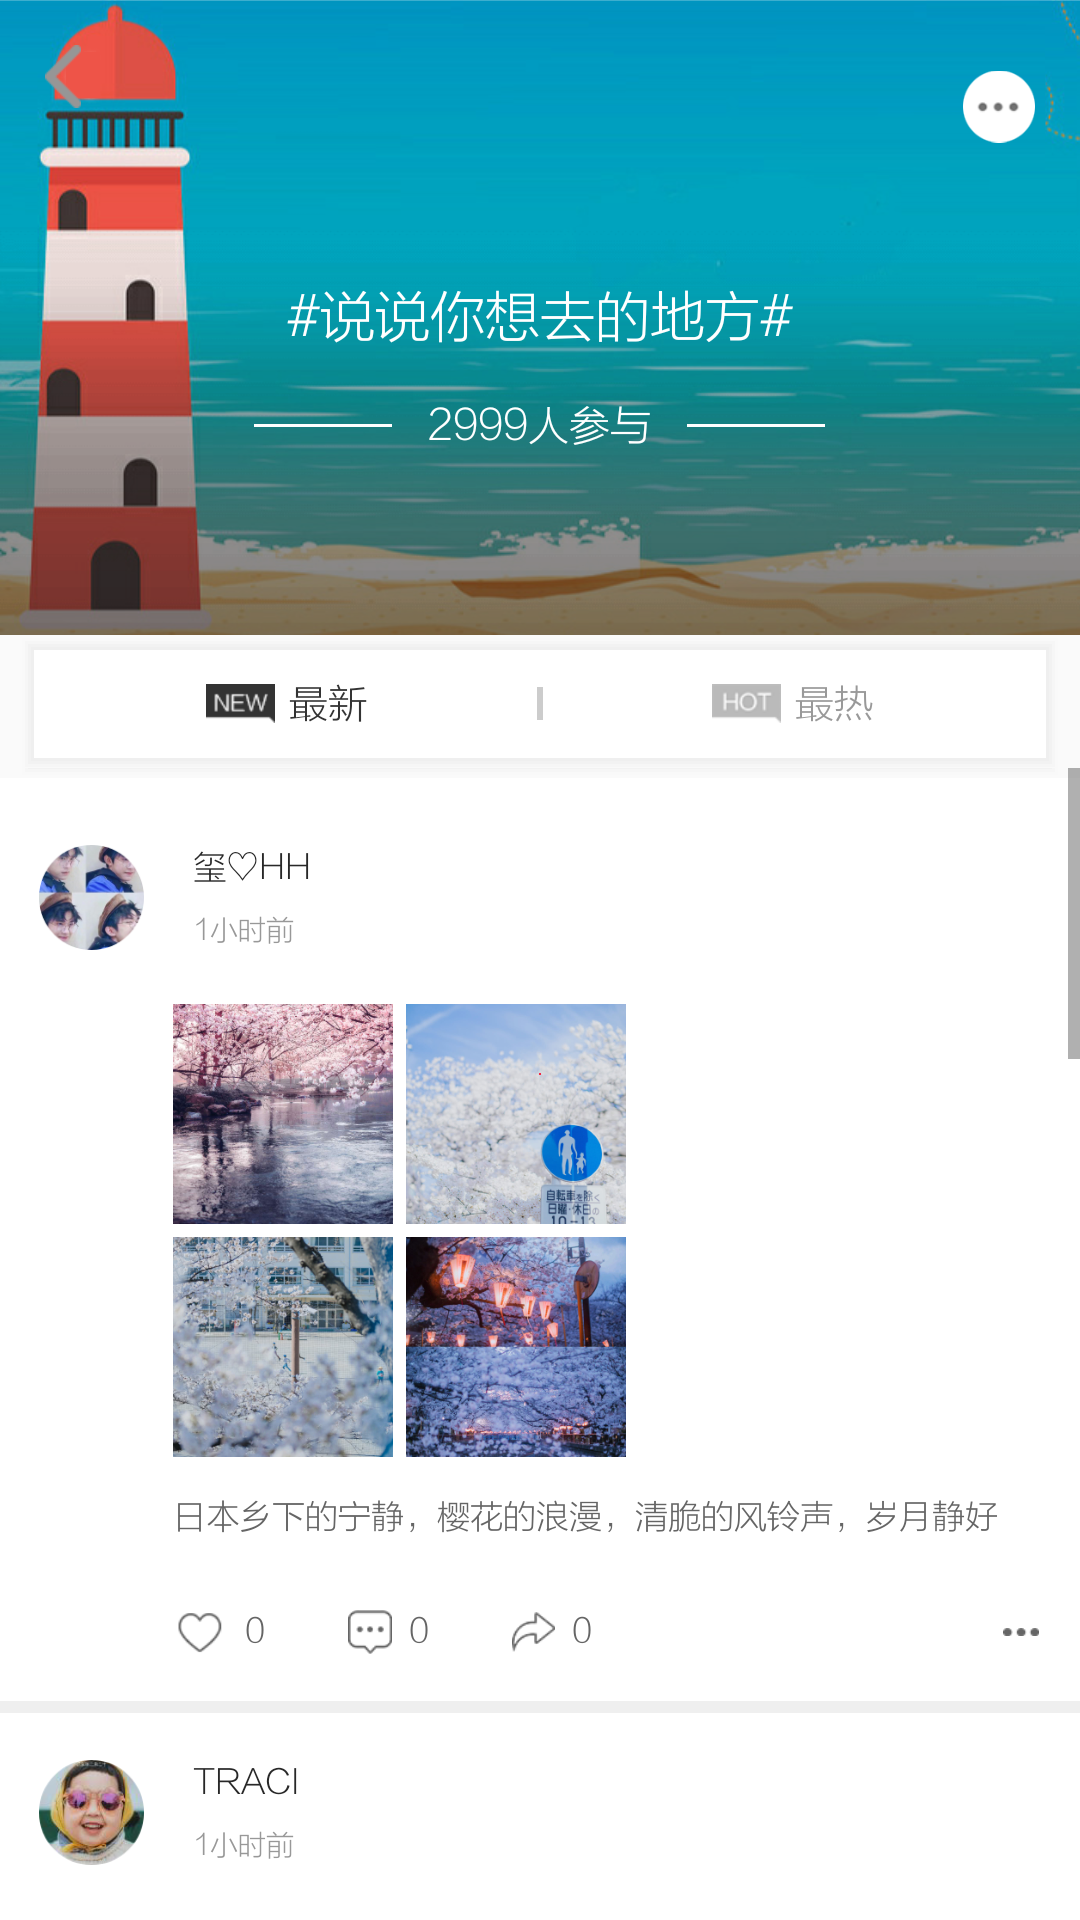

Screen size 1080px x 1920px. Icon name, then its center in pixels as (x,y):
leftback: (63,76)
shenglue: (999,107)
